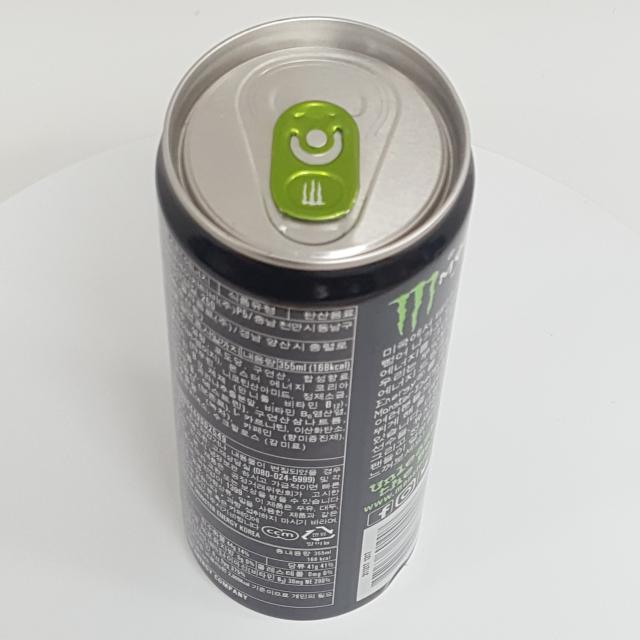--------355ML: (155, 16, 473, 622)
